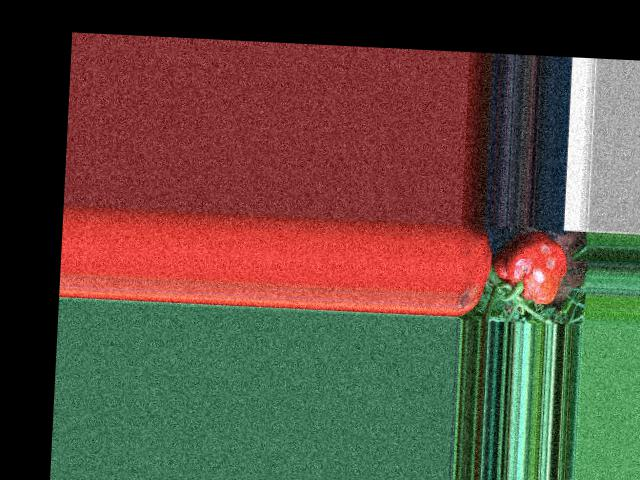bell_pepper: (492, 225, 565, 311)
